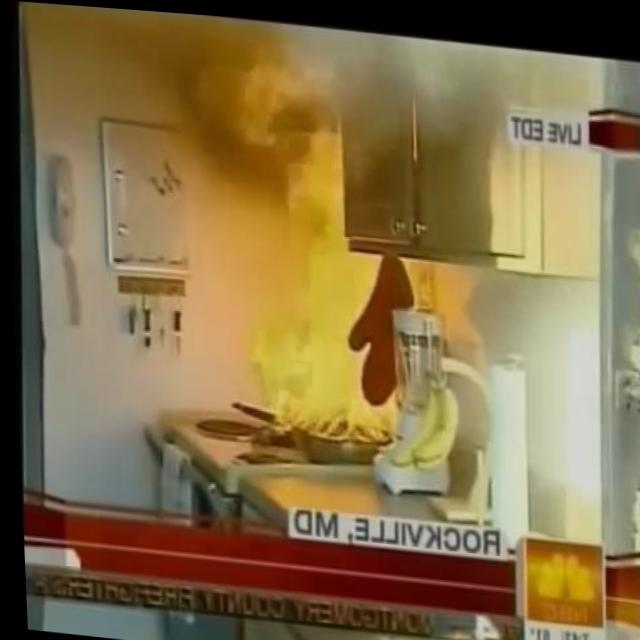fire: (220, 36, 434, 446)
